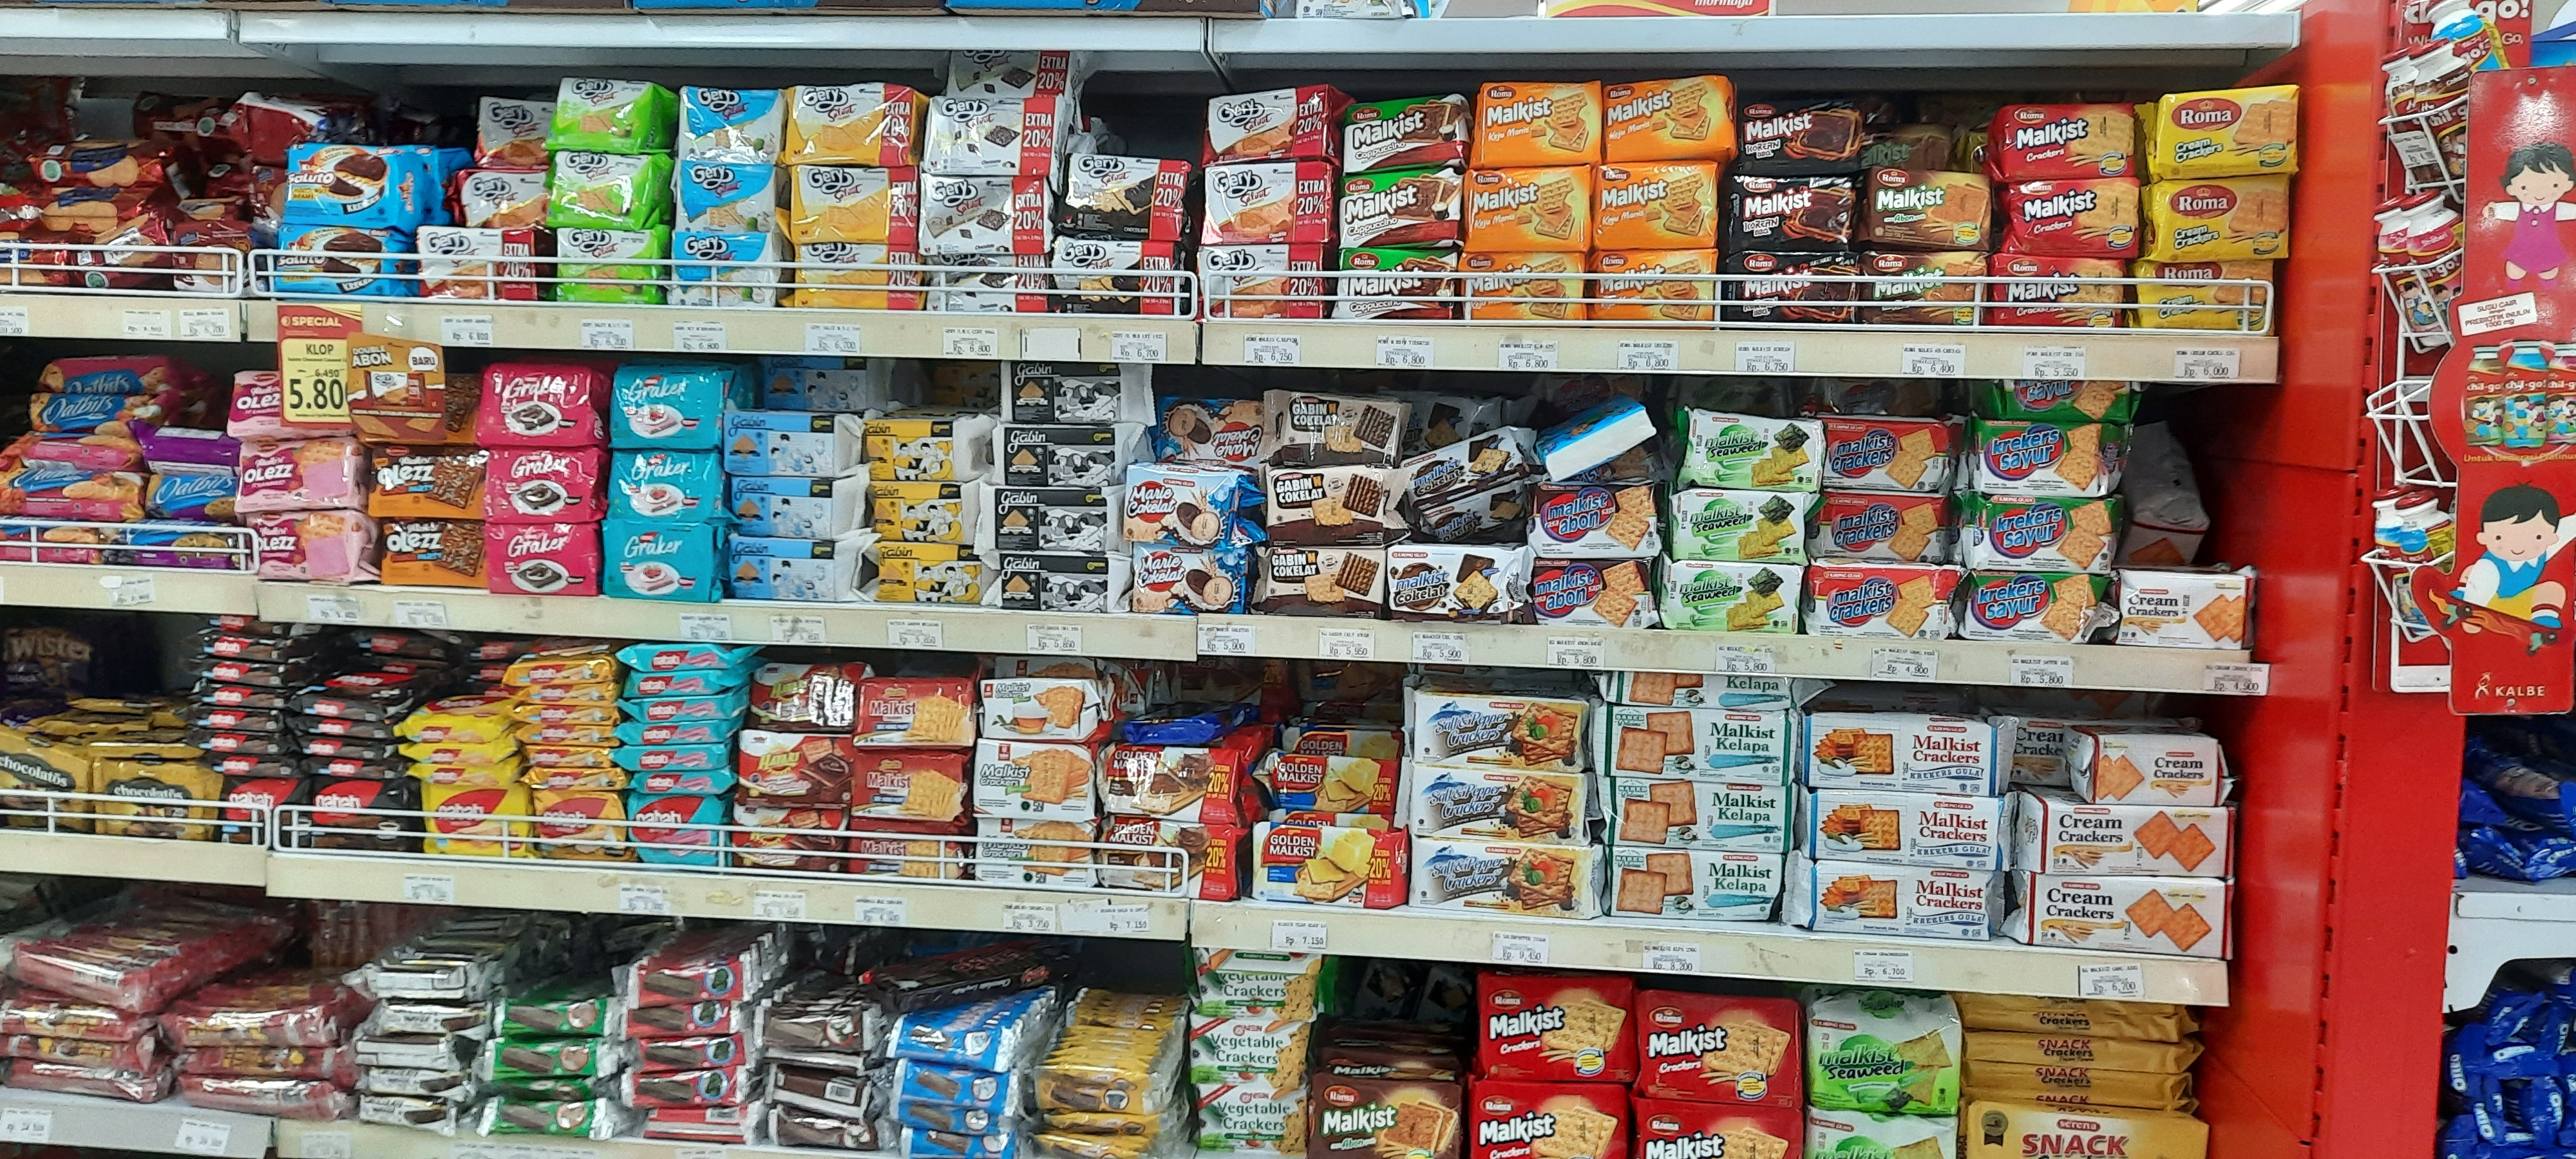90101225202101: (1055, 149, 1198, 241), (1048, 235, 1191, 327)
90101225205101: (787, 84, 925, 164), (790, 164, 920, 245), (784, 241, 922, 307)
90101225209100: (672, 158, 775, 233), (680, 85, 784, 161), (675, 231, 779, 307)
90101225212100: (545, 156, 669, 228), (554, 79, 677, 151), (549, 231, 670, 304)
90101225218101: (927, 94, 1058, 176), (918, 174, 1050, 254), (925, 250, 1051, 315)
90101225226101: (1196, 243, 1329, 325), (1203, 82, 1334, 164), (416, 227, 547, 307), (1203, 172, 1329, 240), (467, 95, 554, 164), (450, 167, 545, 227)
ChocolatorOriginal: (95, 760, 214, 844)
HatariCoklat: (736, 732, 849, 803), (744, 663, 856, 734), (731, 801, 843, 870)
KokolaOlezzChocoParty: (375, 517, 491, 589), (373, 448, 488, 520)
KokolaOlezzStrawberry: (248, 509, 368, 583), (240, 445, 360, 507)
KongGuanCrackersGula: (1805, 719, 2004, 793), (1797, 862, 1996, 936), (1804, 799, 2003, 862)
KongGuanCrackersKelapa: (1603, 706, 1796, 783), (1603, 845, 1782, 926), (1602, 786, 1791, 845)
KongGuanCreanCrackers: (2031, 875, 2224, 955), (2042, 799, 2233, 875), (2118, 568, 2247, 648), (2091, 735, 2221, 806)
KongGuanKrekersSayur: (1971, 419, 2126, 497), (1965, 492, 2119, 571), (1965, 575, 2118, 645)
KongGuanMalkistAbon: (1534, 481, 1661, 561), (1529, 557, 1661, 627)
KongGuanMalkistCokelat: (1387, 543, 1534, 629)
KongGuanMalkistCrackers: (1824, 419, 1953, 492), (1815, 486, 1945, 560), (1814, 563, 1943, 637)
KongGuanMalkistSeaWeed: (1810, 995, 1957, 1116), (1672, 489, 1815, 565), (1661, 561, 1804, 637), (1690, 409, 1817, 489)
KongGuanMarieSalutCoklat: (1130, 465, 1247, 550), (1137, 547, 1249, 611), (1153, 396, 1265, 460)
KongGuanSalt&PepperCrackers: (1413, 837, 1610, 919), (1411, 693, 1589, 772), (1410, 767, 1587, 845)
Malkist: (853, 678, 977, 747), (848, 749, 973, 818), (846, 811, 971, 880)
NabatiCokelat: (212, 776, 315, 850), (312, 781, 417, 854)
NabatiGrackerRichberry: (611, 376, 721, 448), (606, 524, 716, 596), (613, 451, 721, 522)
NabatiGrackerRichoco: (486, 447, 603, 525), (485, 368, 600, 447), (481, 520, 596, 599)
NabatiKeju: (424, 783, 534, 857)
NabatiLavaPink: (624, 793, 724, 867)
NabatiSusu: (532, 790, 626, 859)
NissinGabinCokelat: (1265, 463, 1405, 547), (1263, 394, 1401, 471), (1252, 545, 1390, 622)
NissinGabinKeju: (876, 542, 979, 604), (872, 484, 969, 545), (862, 420, 959, 481)
NissinGabinOriginal: (1007, 364, 1152, 425), (996, 489, 1124, 555), (996, 420, 1124, 486), (997, 555, 1125, 614)
NissinGabinSusu: (721, 412, 835, 478), (723, 476, 835, 542), (731, 535, 843, 601)
NissinGoldenMalkistCokelat: (1096, 821, 1237, 900), (1101, 747, 1240, 824)
NissinGoldenMalkistMentega: (1250, 821, 1403, 909), (1272, 755, 1400, 811)
NissinVegetableCrackers: (1188, 1016, 1314, 1085), (1186, 1090, 1313, 1159)
RomaMalkistAbon: (1314, 1079, 1470, 1159), (1873, 164, 1989, 251), (1865, 251, 1985, 325)
RomaMalkistCappuccino: (1341, 92, 1469, 169), (1337, 164, 1465, 241), (1331, 250, 1459, 327)
RomaMalkistCrackers: (1635, 992, 1801, 1102), (1482, 975, 1628, 1082), (1993, 103, 2134, 187), (1998, 179, 2144, 254), (1994, 258, 2123, 332)
RomaMalkistCreamCrackers: (2155, 85, 2302, 181), (2150, 171, 2297, 266), (2132, 261, 2279, 332)
RomaMalkistKeju: (1477, 80, 1598, 164), (1469, 171, 1590, 253), (1597, 164, 1718, 246), (1605, 76, 1727, 158), (1597, 246, 1718, 328), (1462, 251, 1589, 325)
RomaMalkistKorean: (1728, 176, 1858, 253), (1737, 97, 1866, 174), (1728, 253, 1858, 328)
UbmMalkistCrackers: (974, 737, 1104, 824), (973, 819, 1096, 883), (979, 681, 1102, 744)
